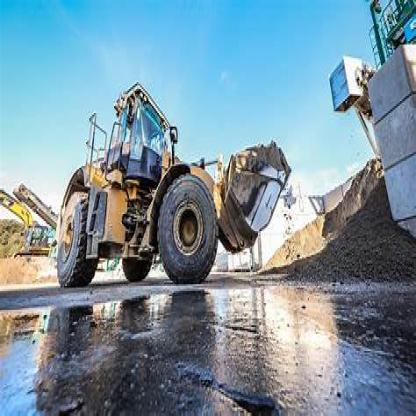bull_dozer/loader/grader: (49, 70, 290, 291)
